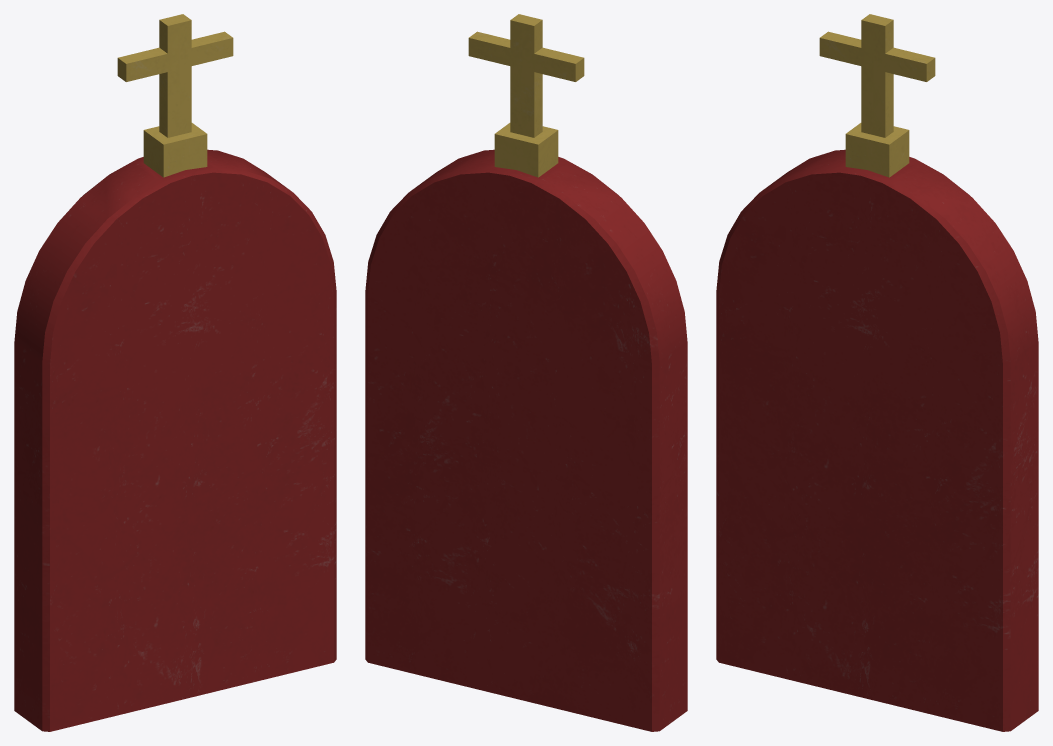
Rendered from GraveStone_3.fbx.
The picture shows the model from 3 angles, left to right: view 1: azimuth 30°, elevation 25°; view 2: azimuth 150°, elevation 25°; view 3: azimuth 330°, elevation 25°; orthographic projection.
Parts seen in each view (by area): view 1: GraveStone_3; view 2: GraveStone_3; view 3: GraveStone_3.
Boxes of the visible parts, box(x1,y1,x2,y2) form: GraveStone_3: box(14, 14, 336, 731); GraveStone_3: box(365, 14, 687, 731); GraveStone_3: box(716, 14, 1038, 731).
Size of the model in its own units: 58.48 by 126 by 11.39.
